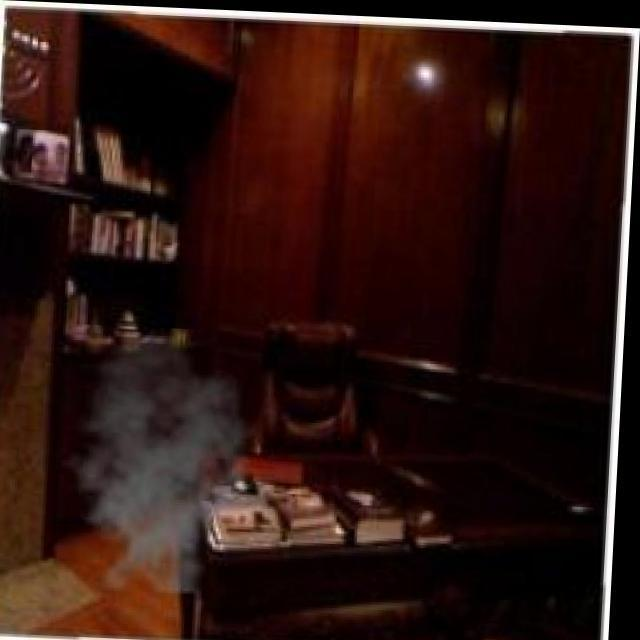Smoke: (56, 328, 262, 596)
